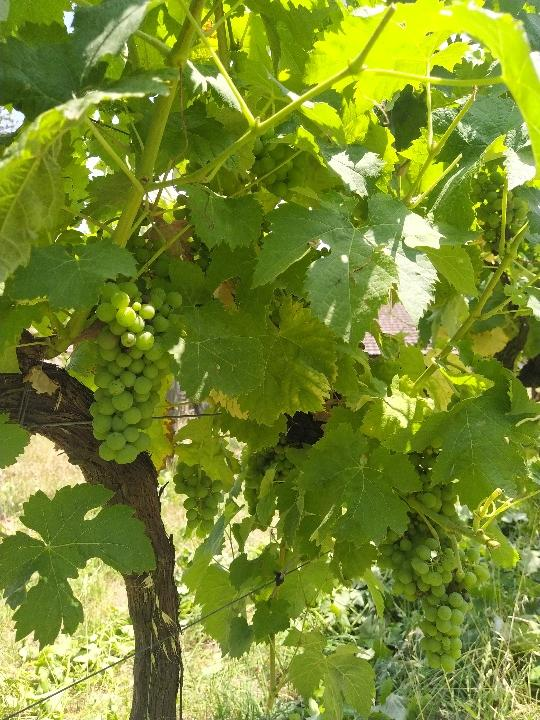grape: (87, 281, 185, 467), (409, 536, 492, 674)
